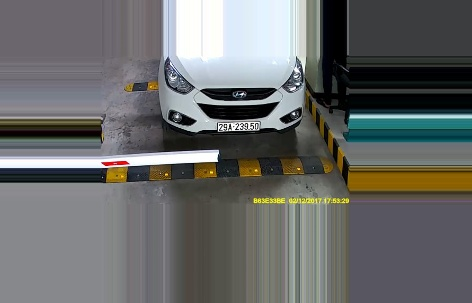plate: (216, 120, 261, 133)
